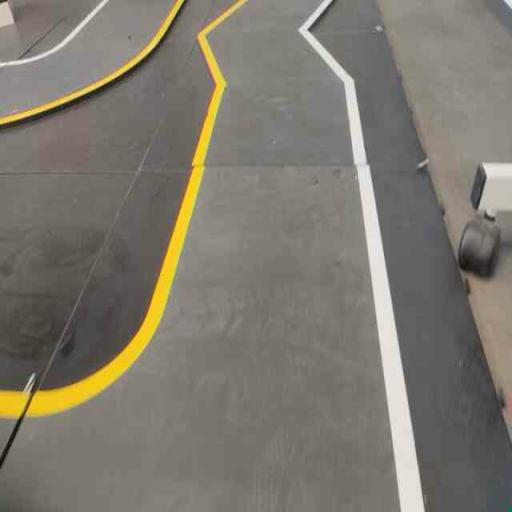straight: (141, 164, 403, 321)
